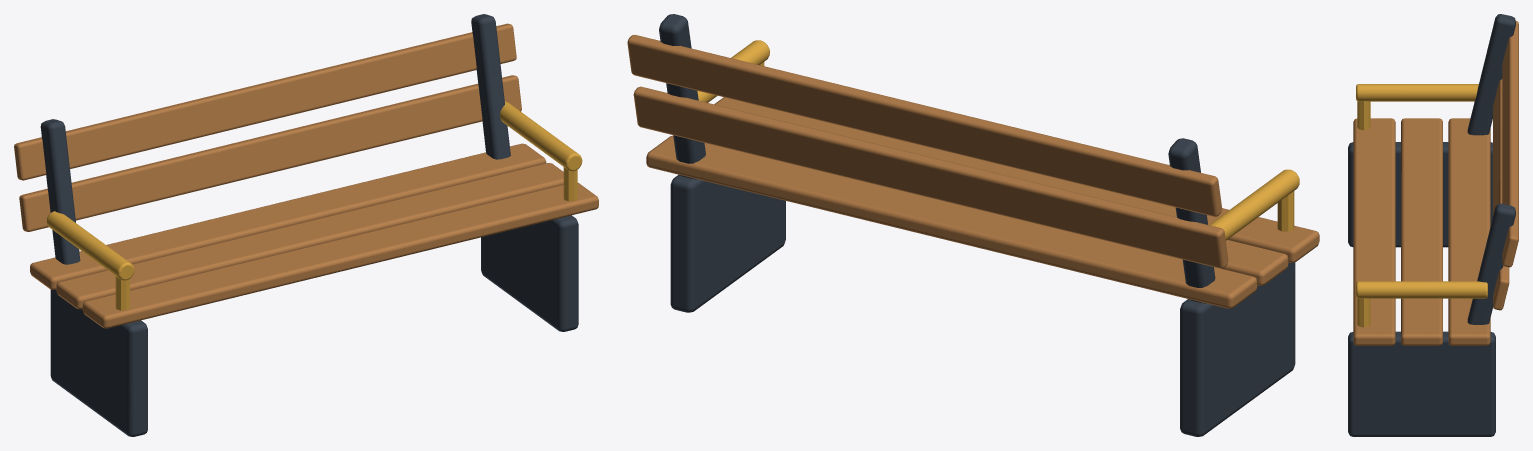
The model's file is bench.glb.
The picture shows the model from 3 angles, left to right: view 1: azimuth 30°, elevation 25°; view 2: azimuth 150°, elevation 25°; view 3: azimuth 270°, elevation 25°; orthographic projection. The views are drawn at different scales.
Parts seen in each view (by area): view 1: bench_body; view 2: bench_body; view 3: bench_body.
Boxes of the visible parts, x1,y1,x2,y2 form: bench_body: [14, 14, 598, 436]; bench_body: [627, 14, 1319, 436]; bench_body: [1348, 14, 1518, 436].
Bounding box in the file's own units: 1.96 × 0.9576 × 0.6471.
